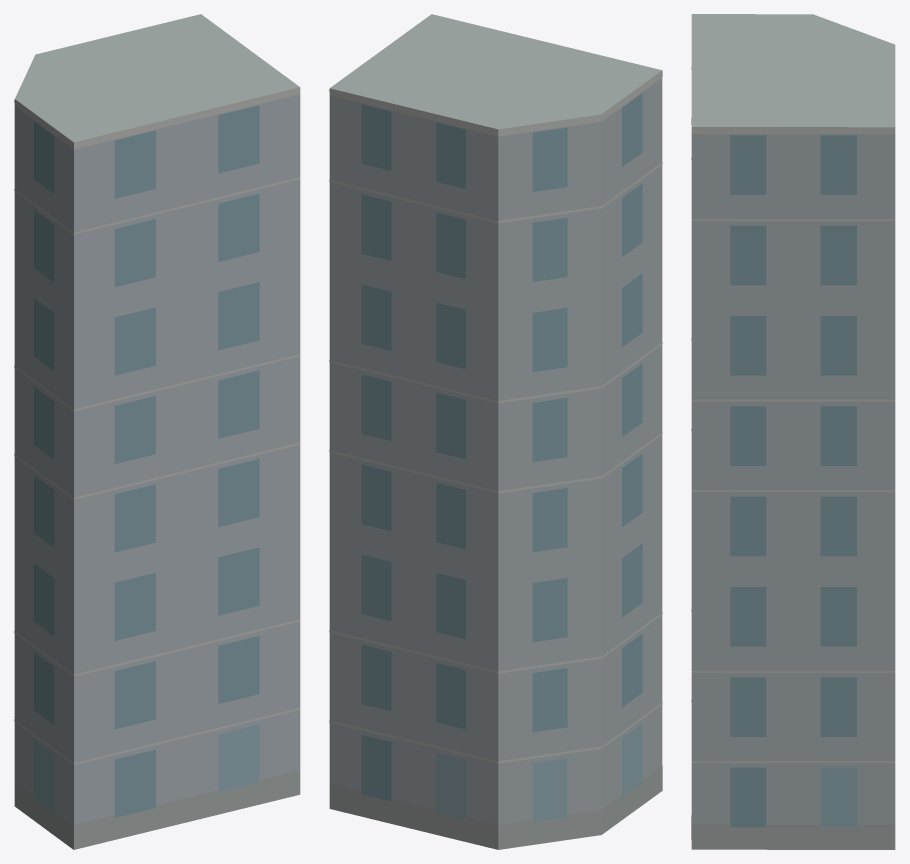
The model's file is survey-upis-32717392.glb.
3 renders of one model, left to right at view 1: azimuth 30°, elevation 25°; view 2: azimuth 150°, elevation 25°; view 3: azimuth 270°, elevation 25°, orthographic. The views are drawn at different scales.
Parts seen in each view (by area): view 1: survey-upis-32717392.tmp; view 2: survey-upis-32717392.tmp; view 3: survey-upis-32717392.tmp.
Boxes of the visible parts, <box> form: survey-upis-32717392.tmp: <box>14,14,300,849</box>; survey-upis-32717392.tmp: <box>329,14,662,849</box>; survey-upis-32717392.tmp: <box>691,14,895,849</box>.
Bounding box in the file's own units: 8.22 × 24.4 × 6.27.
